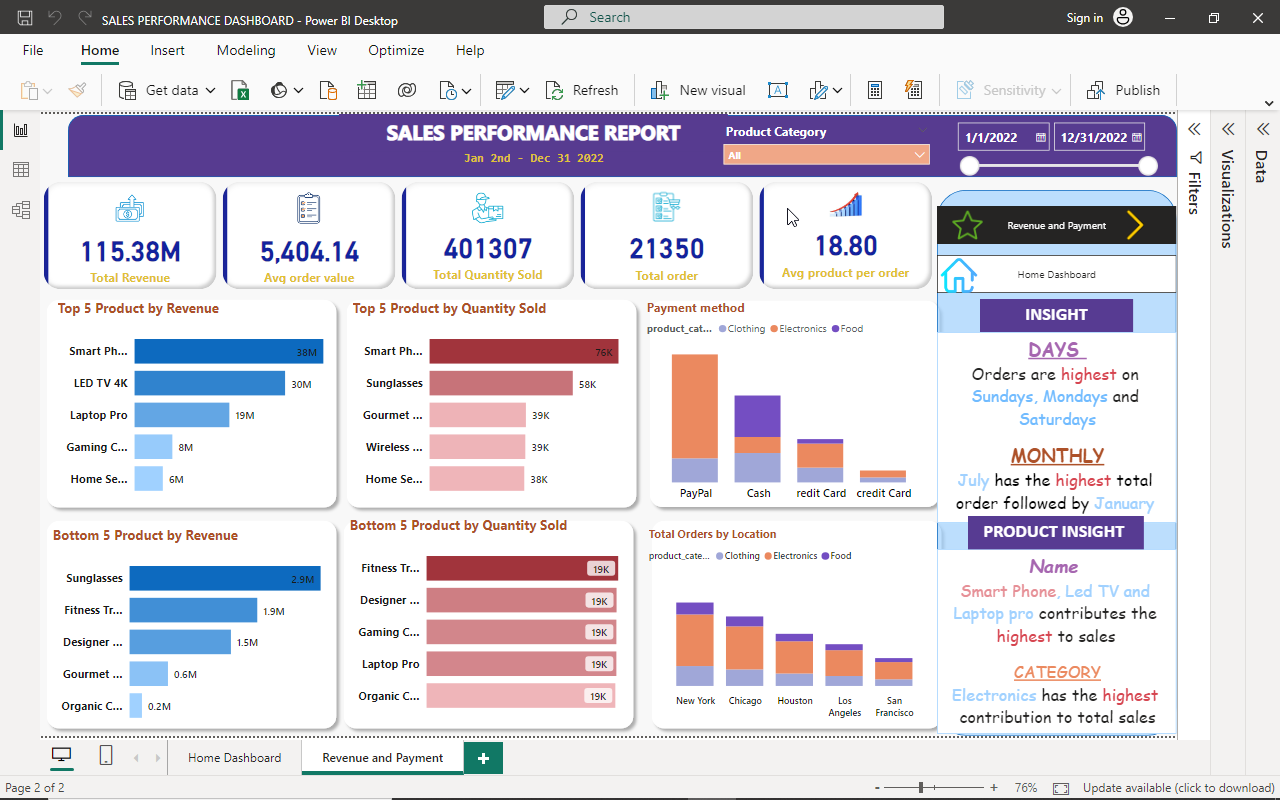

This screenshot's page, from the dashboard's own definition file:
{"tool":"powerbi","page":{"name":"Revenue and Payment ","canvas":[1500,820],"ordinal":1},"visuals":[{"type":"cardVisual","fields":{"Data":["sales_record.Total Revenue","sales_record.Avg order value","sales_record.Total Quantity Sold","sales_record.Total order","sales_record.Avg product per order"]},"box":[0,84,1184,152],"z":0},{"type":"shape","box":[36.7,1.7,1463.3,81.7],"z":1000},{"type":"textbox","box":[395,0,513.3,50],"z":2000},{"type":"textbox","box":[541.7,43.3,218.3,33.3],"z":3000},{"type":"shape","box":[0,236,400,292],"z":4000},{"type":"shape","box":[796,238,400,290],"z":5000},{"type":"shape","box":[798,528,400,292],"z":6000},{"type":"columnChart","title":"Total Orders by Location ","fields":{"Category":["sales_record.location"],"Y":["CountNonNull(sales_record.product_category)"],"Series":["sales_record.product_category"]},"box":[798,544,386,262],"z":7000},{"type":"columnChart","title":"Payment method","fields":{"Category":["sales_record.payment_method"],"Y":["sales_record.Total order"],"Series":["sales_record.product_category"]},"box":[796,244,388,276],"z":8000},{"type":"slicer","fields":{"Values":["sales_record.product_category"]},"box":[891.7,6.7,291.7,70],"z":9000},{"type":"slicer","fields":{"Values":["sales_record.order_date"]},"box":[1198.3,1.7,285,83.3],"z":10000},{"type":"shape","box":[396,236,400,292],"z":11000},{"type":"shape","box":[0,528,400,292],"z":12000},{"type":"shape","box":[392,528,400,292],"z":13000},{"type":"barChart","title":"Top 5 Product by Revenue","fields":{"Category":["sales_record.product_name"],"Y":["sales_record.Total Revenue"]},"box":[18,244,374,276],"z":14000},{"type":"barChart","title":"Bottom 5 Product by Revenue","fields":{"Category":["sales_record.product_name"],"Y":["sales_record.Total Revenue"]},"box":[12,544,374,276],"z":15000},{"type":"barChart","title":"Top 5 Product by Quantity Sold","fields":{"Category":["sales_record.product_name"],"Y":["sales_record.Total Quantity Sold"]},"box":[408,244,374,276],"z":16000},{"type":"barChart","title":"Bottom 5 Product by Quantity Sold","fields":{"Category":["sales_record.product_name"],"Y":["sales_record.Total Quantity Sold"]},"box":[404,530,374,276],"z":17000},{"type":"shape","box":[1184,100,316,720],"z":18000},{"type":"textbox","box":[1240,244,202,44],"z":19000},{"type":"textbox","box":[1184,288,316,252],"z":20000},{"type":"textbox","box":[1184,574,316,244],"z":21000},{"type":"textbox","box":[1224,530,232,44],"z":22000},{"type":"pageNavigator","box":[1184,122,316,50],"z":22001},{"type":"pageNavigator","box":[1184,186,316,50],"z":22002},{"type":"image","box":[1392,122,106,50],"z":22003},{"type":"image","box":[1184,182,58,62],"z":22004},{"type":"image","box":[1188,122,70,50],"z":22005}]}

Visuals, with their boxes on the page's 1500x820 design canvas (x1, y1, x2, y2). These are canvas units, not pixel positions in the 1280x800 screenshot, which may show the page scaled, cropped or inside an application window:
cardVisual - sales_record.Total Revenue x sales_record.Avg order value: locate(0, 84, 1184, 236)
shape: locate(37, 2, 1500, 83)
textbox: locate(395, 0, 908, 50)
textbox: locate(542, 43, 760, 77)
shape: locate(0, 236, 400, 528)
shape: locate(796, 238, 1196, 528)
shape: locate(798, 528, 1198, 820)
"Total Orders by Location " columnChart: locate(798, 544, 1184, 806)
"Payment method" columnChart: locate(796, 244, 1184, 520)
slicer - sales_record.product_category: locate(892, 7, 1183, 77)
slicer - sales_record.order_date: locate(1198, 2, 1483, 85)
shape: locate(396, 236, 796, 528)
shape: locate(0, 528, 400, 820)
shape: locate(392, 528, 792, 820)
"Top 5 Product by Revenue" barChart: locate(18, 244, 392, 520)
"Bottom 5 Product by Revenue" barChart: locate(12, 544, 386, 820)
"Top 5 Product by Quantity Sold" barChart: locate(408, 244, 782, 520)
"Bottom 5 Product by Quantity Sold" barChart: locate(404, 530, 778, 806)
shape: locate(1184, 100, 1500, 820)
textbox: locate(1240, 244, 1442, 288)
textbox: locate(1184, 288, 1500, 540)
textbox: locate(1184, 574, 1500, 818)
textbox: locate(1224, 530, 1456, 574)
pageNavigator: locate(1184, 122, 1500, 172)
pageNavigator: locate(1184, 186, 1500, 236)
image: locate(1392, 122, 1498, 172)
image: locate(1184, 182, 1242, 244)
image: locate(1188, 122, 1258, 172)
